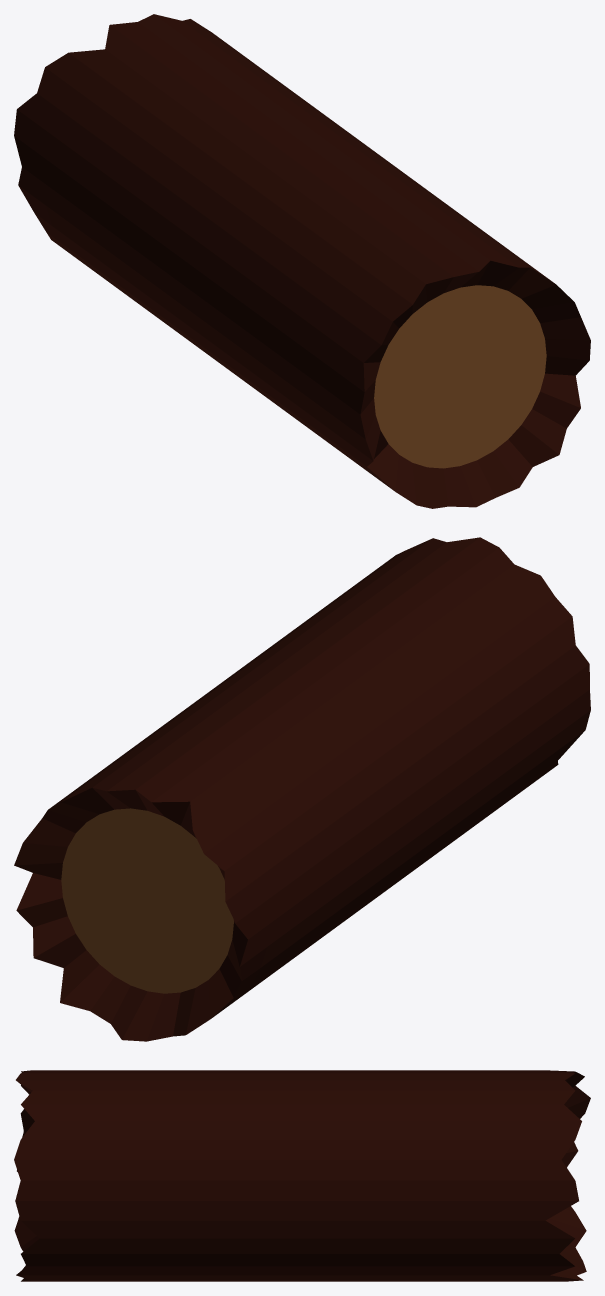
The model's file is Log_Base.glTF.
3 renders of one model, top to bottom at view 1: azimuth 30°, elevation 25°; view 2: azimuth 150°, elevation 25°; view 3: azimuth 270°, elevation 25°, orthographic. The views are drawn at different scales.
Parts seen in each view (by area): view 1: Cylinder; view 2: Cylinder; view 3: Cylinder.
Boxes of the visible parts, x1,y1,x2,y2 form: Cylinder: [14, 14, 590, 508]; Cylinder: [14, 537, 590, 1041]; Cylinder: [14, 1070, 590, 1281].
Size of the model in its own units: 2 by 2 by 5.46.
1 material, 1 textured.
